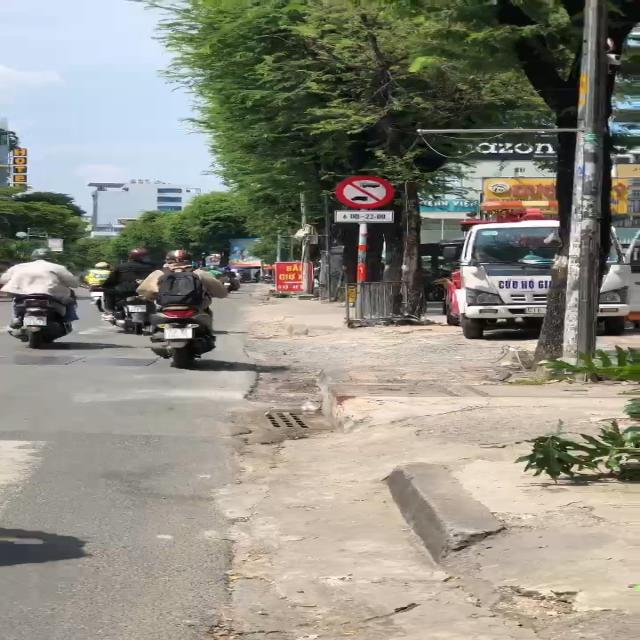Bien bao cam xe oto khach va xe oto tai: (329, 173, 397, 208)
